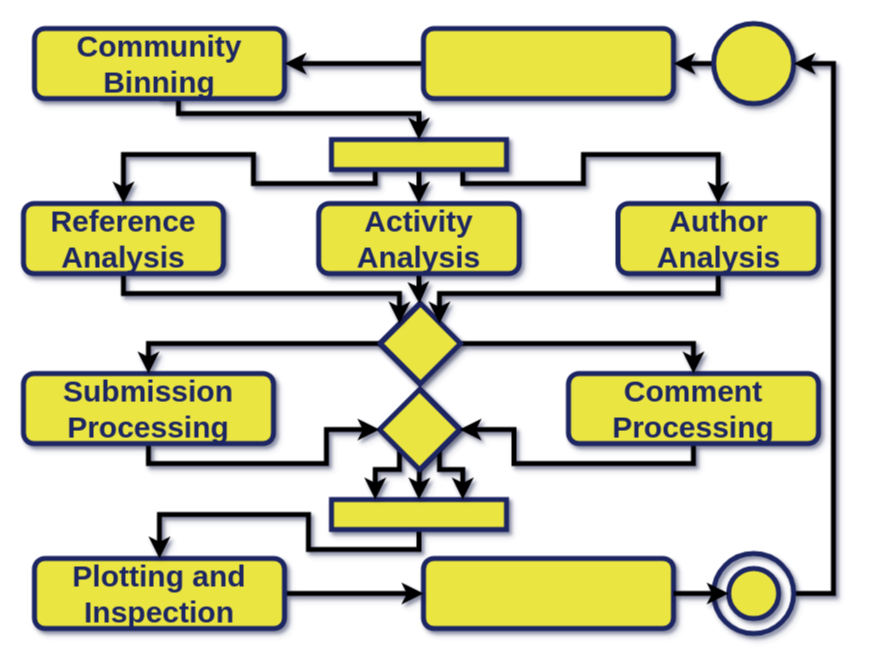
Image size: 873x666. Some labels were removed from this diagram. Here are the shapes that lost their labels. From the top down, the centre of each, then its label:
At point 549,65: "Data Collection".
At point 549,595: "Insight and Revision".
